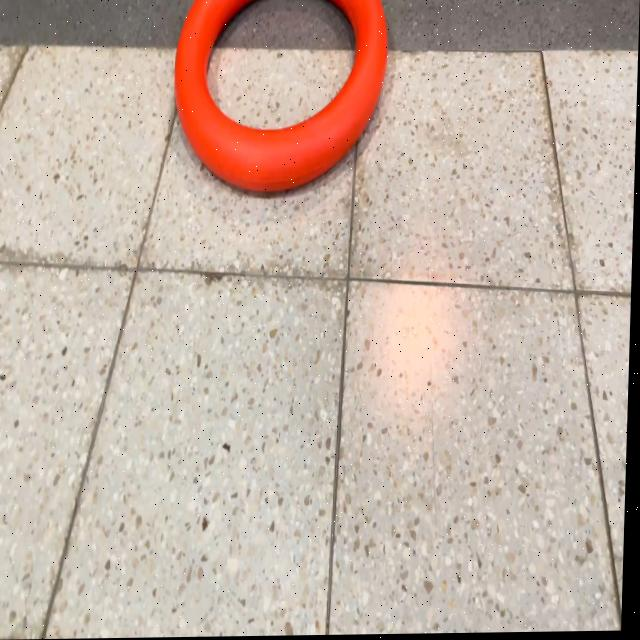note: (170, 0, 391, 198)
